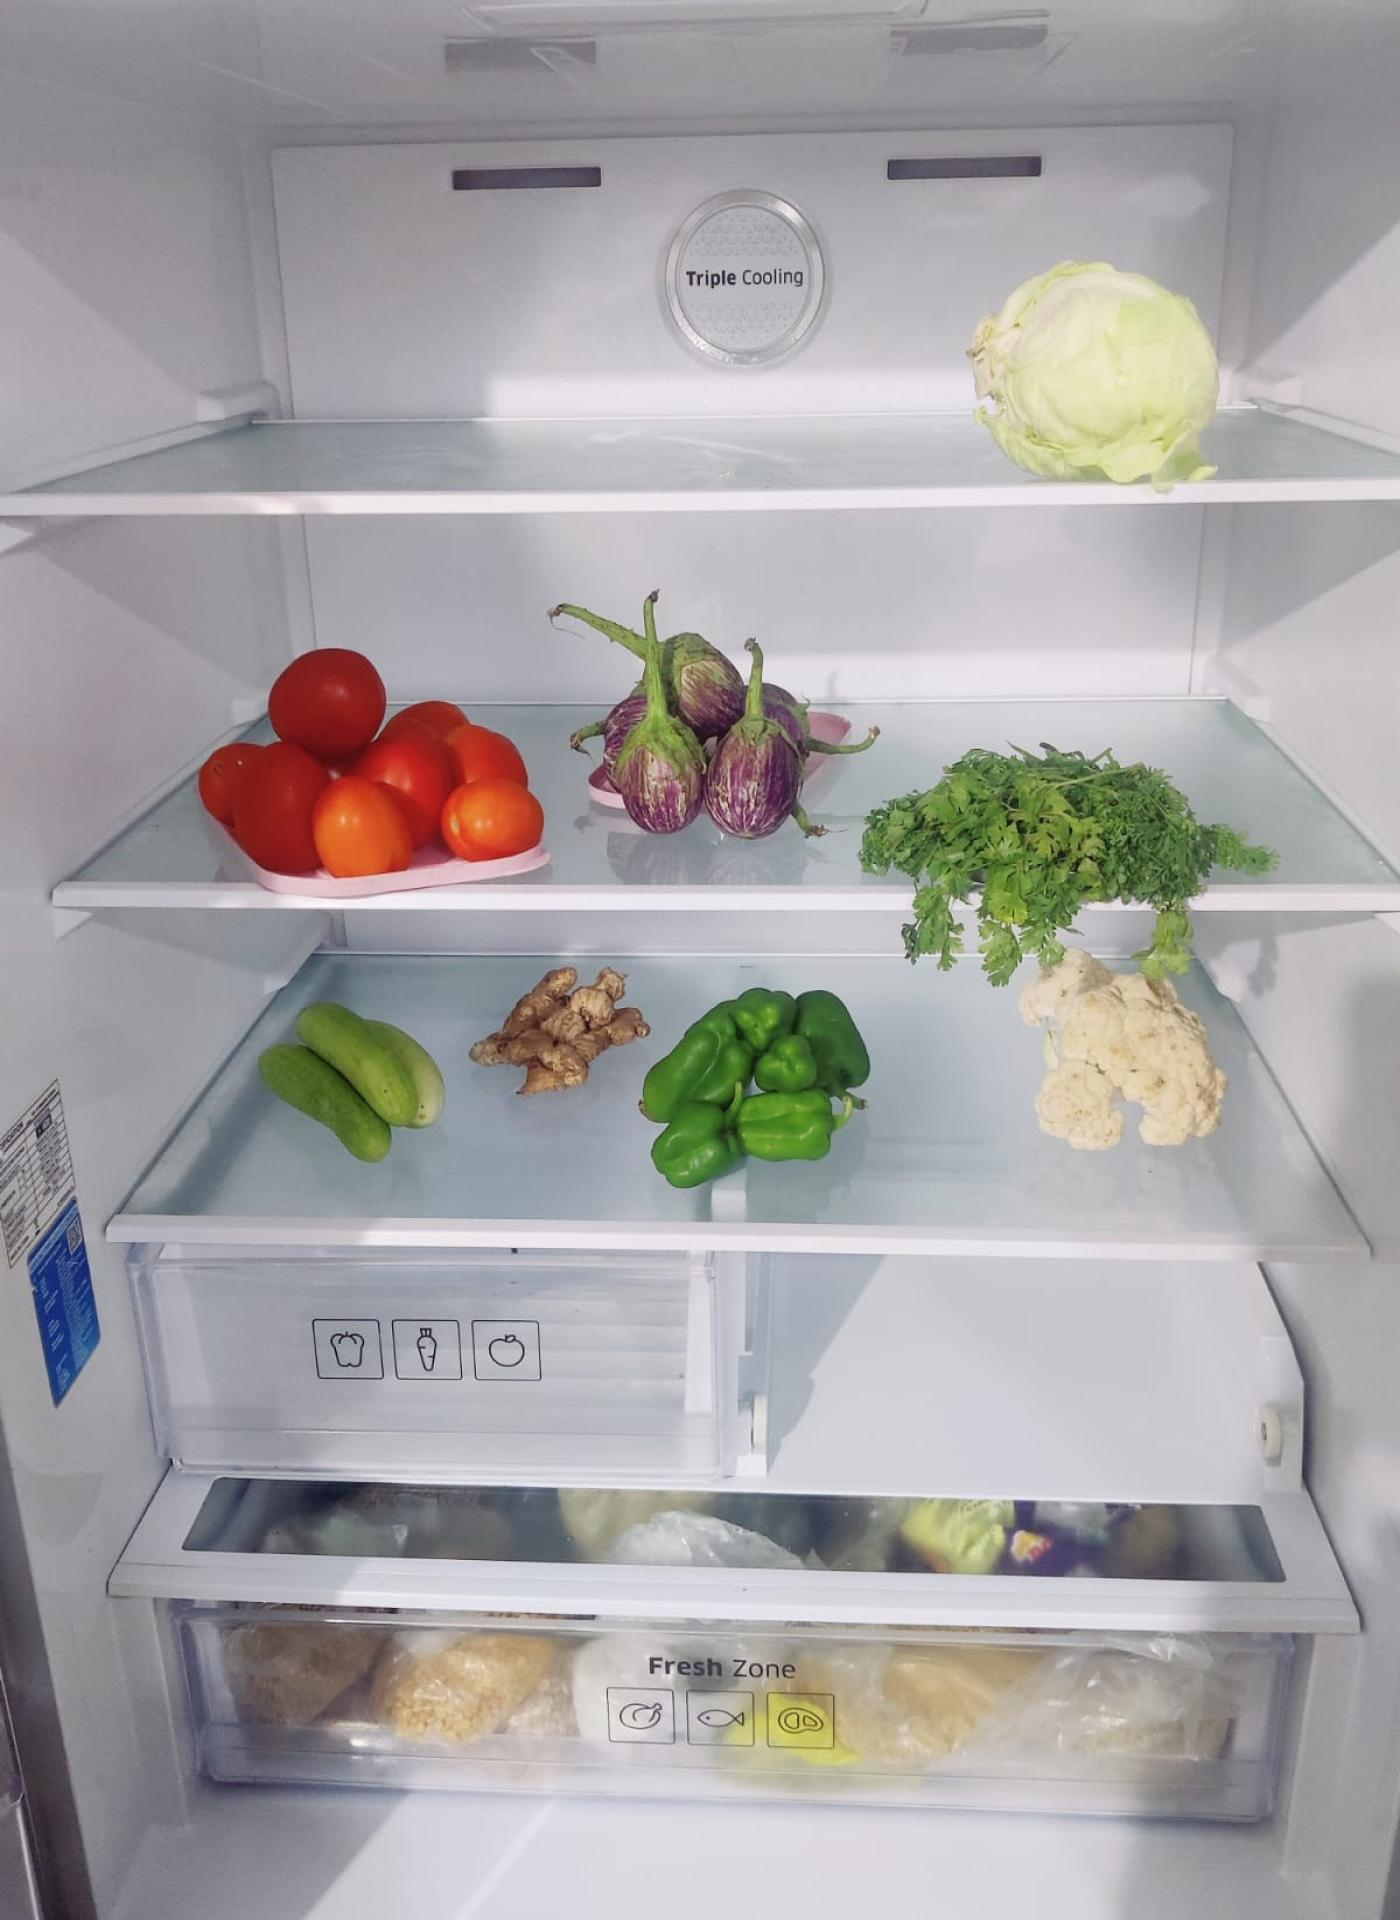brinjal: (608, 628, 813, 833)
cabbage: (972, 256, 1220, 479)
capsicum: (647, 985, 871, 1178)
cauliflower: (1030, 956, 1227, 1152)
coriander: (868, 747, 1263, 933)
cucumber: (259, 999, 450, 1158)
ginger: (473, 964, 653, 1096)
tomato: (200, 641, 538, 871)
